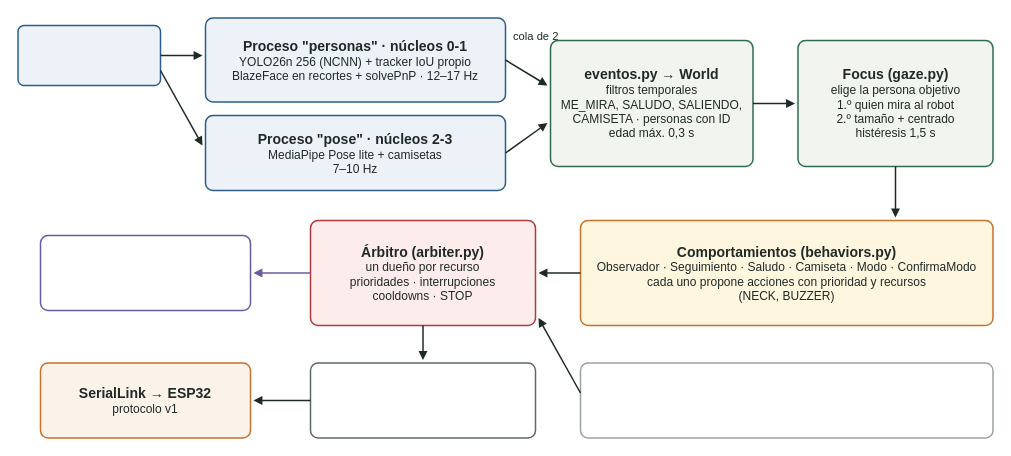
The diagram is 1011 pixels wide and 456 high, and some of its shapes have lost their labels. Here are the shapes that lost their labels. From the top down, the box of each, then its label:
(17, 24, 161, 86): camera_ros ROS 2 · 30 fps
(39, 234, 251, 311): Overlay T7 + log CSV robot.py · overlay.py
(309, 362, 536, 438): Actuators descarta al que no es dueño
(579, 362, 993, 438): Operador panel web / keepon → FIFO → STOP, modo, sonido (prioridad 0)
